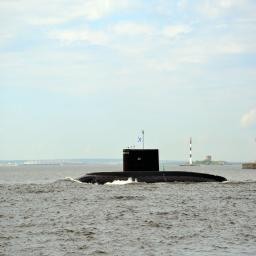submarine: (77, 152, 228, 182)
